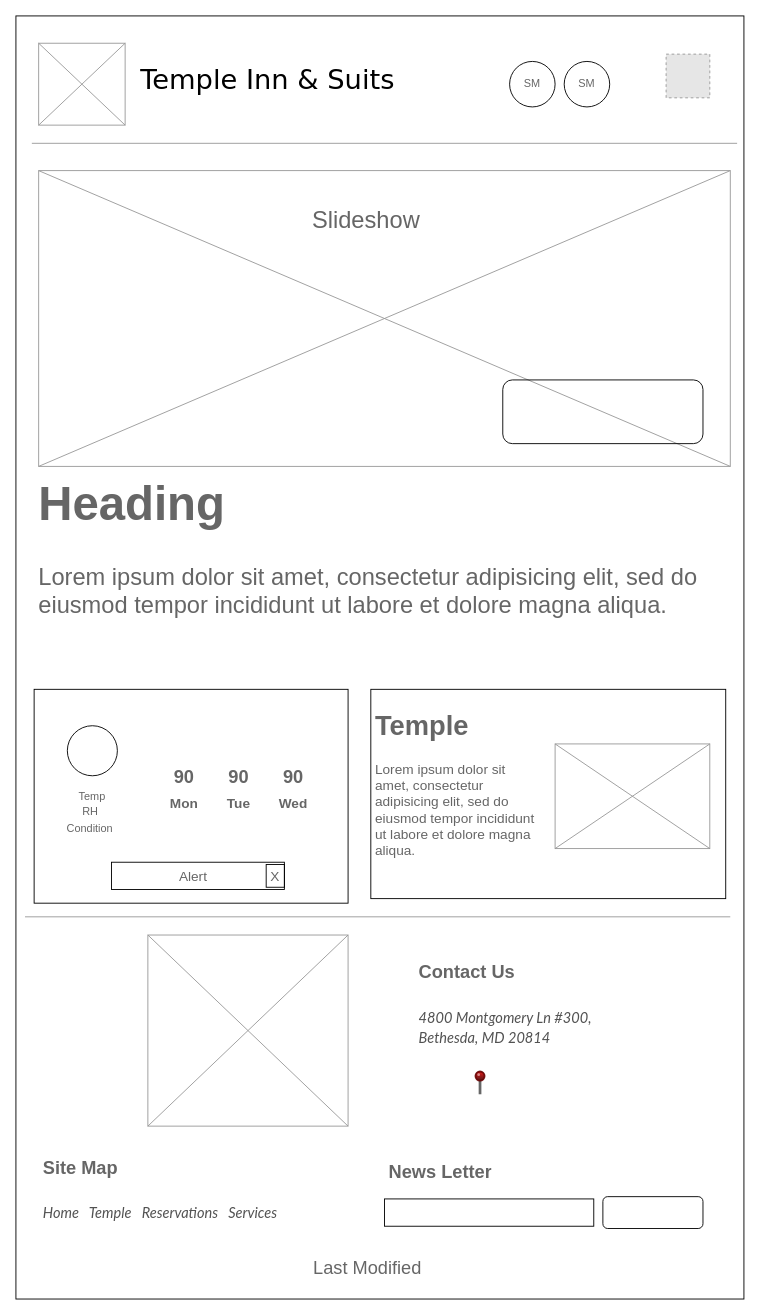
This 760x1315 diagram has some shape labels left out. Grey dashed boxes stand in for pictures. Each missing label, with the box of its shape:
Book Room: (502, 379, 703, 444)
Sign Up: (602, 1196, 703, 1228)
